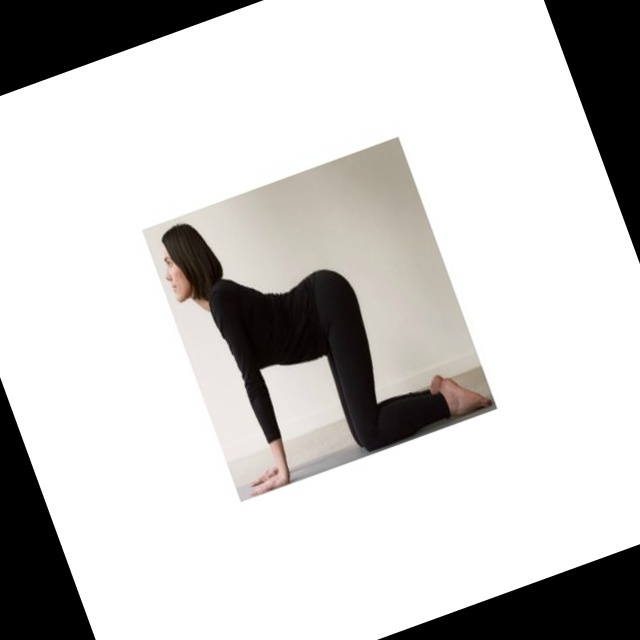Cow_Pose: (161, 223, 495, 497)
